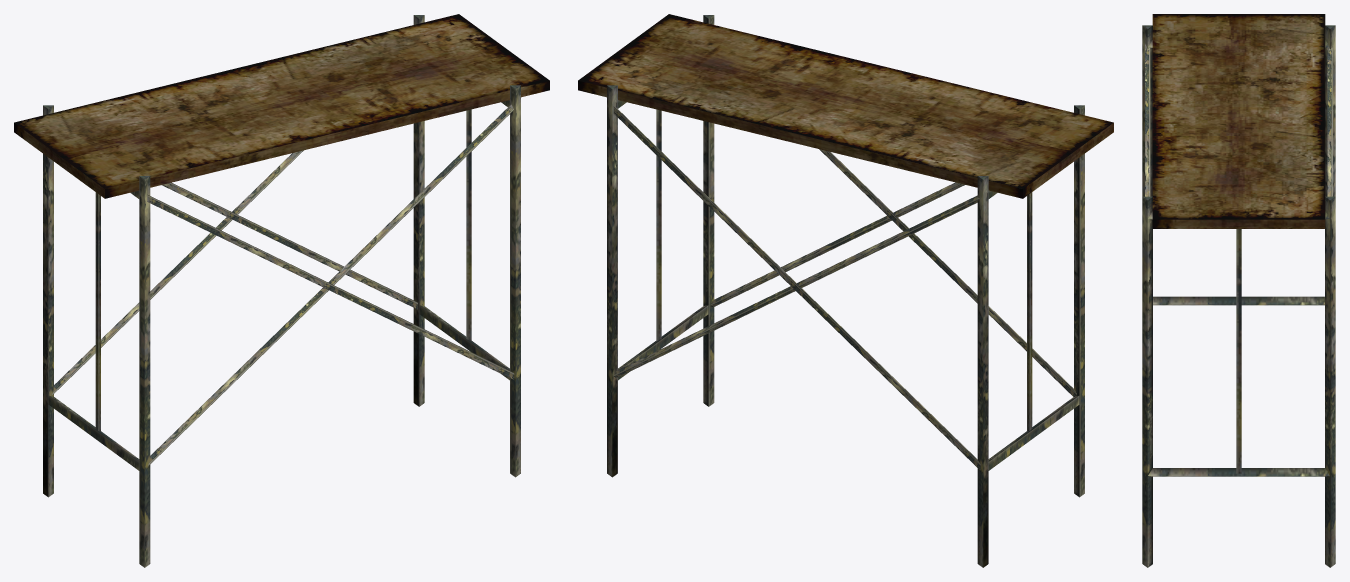
File: fullscaff_top.fbx
The picture shows the model from 3 angles, left to right: view 1: azimuth 30°, elevation 25°; view 2: azimuth 150°, elevation 25°; view 3: azimuth 270°, elevation 25°; orthographic projection. The views are drawn at different scales.
Parts seen in each view (by area): view 1: mesh_0; view 2: mesh_0; view 3: mesh_0.
Part boxes in pixels (x1,y1,x2,y2): mesh_0: (14, 14, 549, 567); mesh_0: (578, 14, 1113, 567); mesh_0: (1142, 14, 1335, 567).
Bounding box in the file's own units: 480 × 400 × 190.
1 material, 1 textured.
